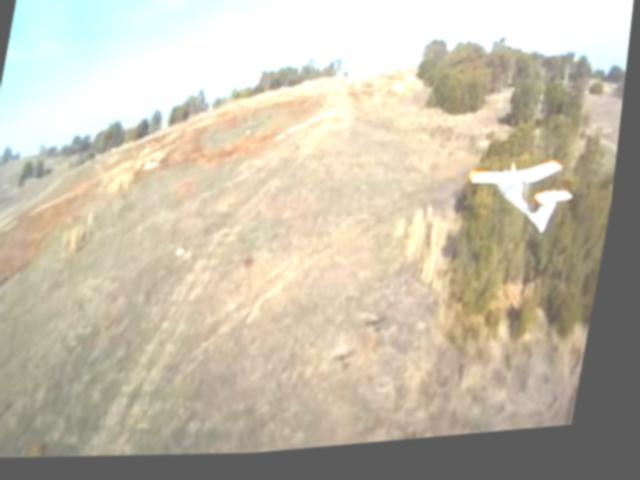uav: (456, 151, 588, 263)
